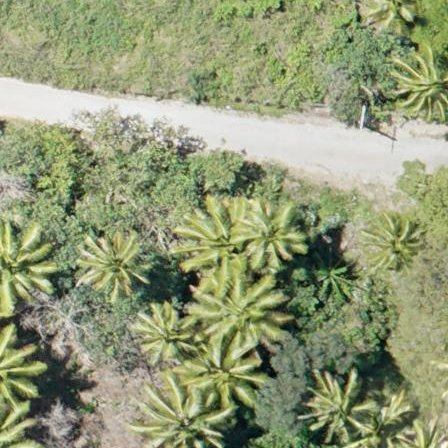palm_tree: (75, 222, 157, 308), (230, 195, 309, 278), (200, 264, 278, 346), (297, 370, 374, 448), (141, 379, 223, 448), (360, 204, 425, 273), (1, 213, 45, 313), (396, 43, 448, 115), (137, 302, 191, 361)
